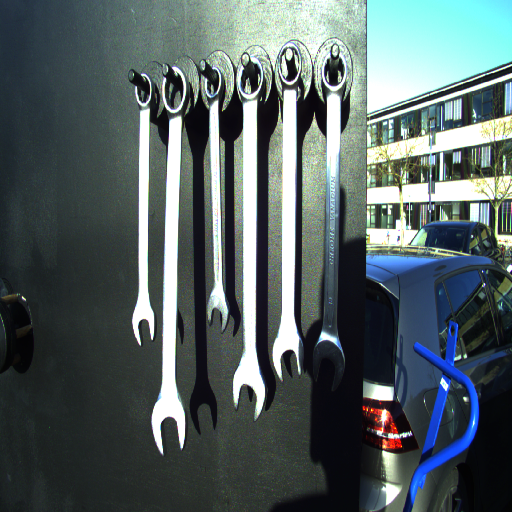bottom: (149, 394, 188, 456), (231, 362, 268, 422), (311, 338, 348, 393), (272, 334, 306, 383), (131, 304, 157, 346), (205, 291, 229, 333)
top: (159, 64, 189, 115), (233, 54, 267, 99), (275, 40, 306, 87), (320, 49, 350, 92), (131, 72, 155, 108), (202, 63, 224, 101)
